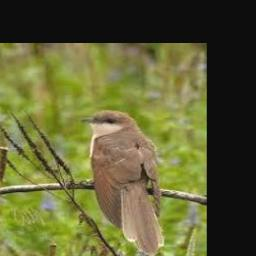Cuckoo: (80, 110, 164, 255)
